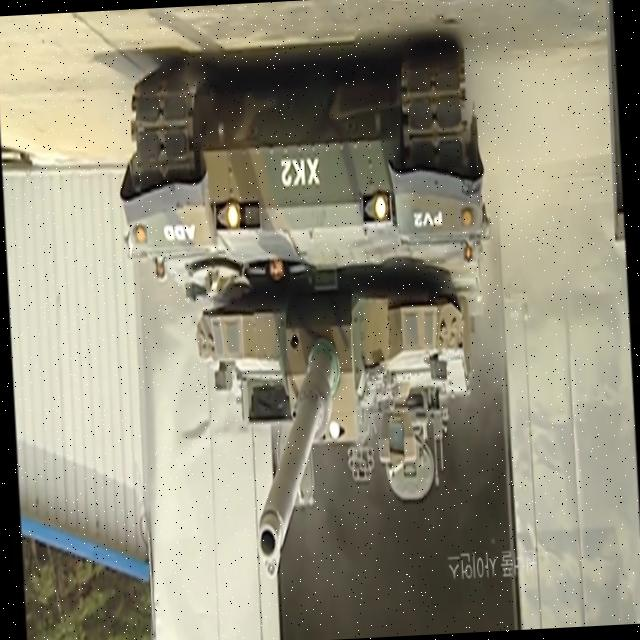korea tank: (109, 34, 512, 588)
